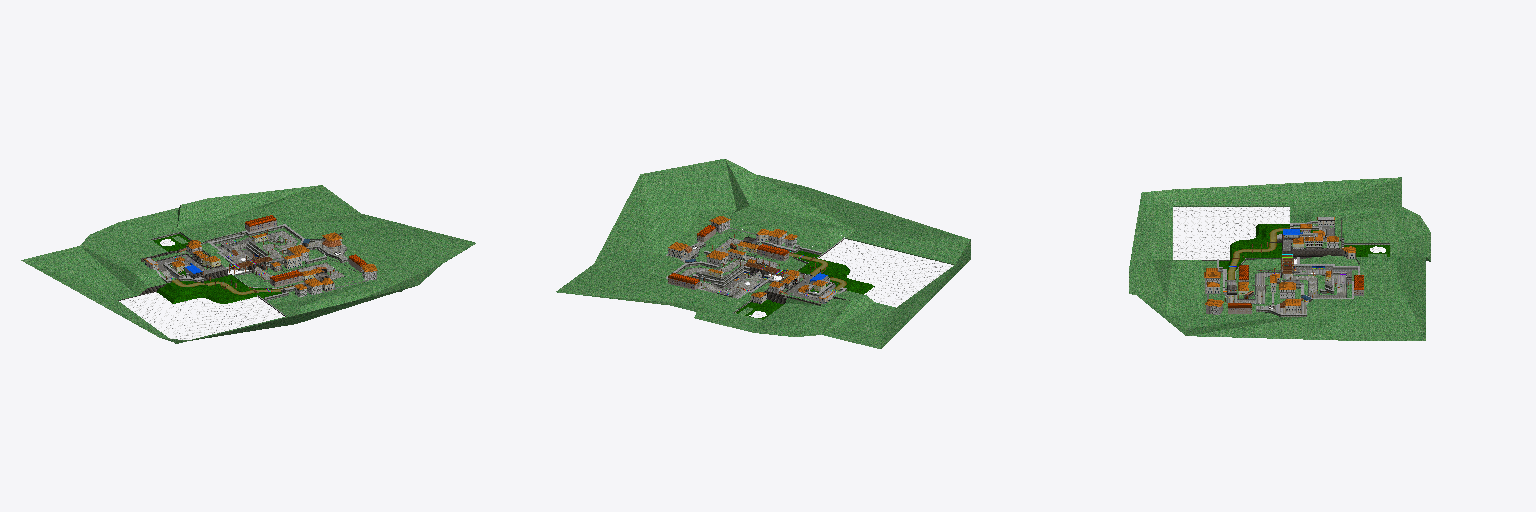
3 views of the same model, side by side, from view 1: azimuth 30°, elevation 25°; view 2: azimuth 150°, elevation 25°; view 3: azimuth 270°, elevation 25° (orthographic).
Visible parts, largest first — view 1: polygon1, polygon7, polygon18, polygon33, polygon29, polygon2, polygon28, polygon23, polygon0, polygon19; view 2: polygon1, polygon7, polygon29, polygon33, polygon2, polygon28, polygon18, polygon23, polygon9, polygon19, polygon0; view 3: polygon1, polygon7, polygon33, polygon2, polygon29, polygon18, polygon0, polygon23, polygon28.
Part boxes in pixels (x1,y1,x2,y2): polygon1: (21, 185, 475, 343); polygon7: (153, 234, 281, 303); polygon18: (151, 226, 348, 300); polygon33: (162, 231, 347, 284); polygon29: (144, 232, 377, 289); polygon2: (121, 239, 339, 339); polygon28: (245, 215, 366, 287); polygon23: (146, 224, 346, 315); polygon0: (118, 233, 342, 316); polygon19: (157, 234, 368, 292); polygon1: (556, 159, 970, 348); polygon7: (736, 251, 874, 319); polygon29: (668, 216, 832, 298); polygon33: (666, 239, 836, 297); polygon2: (694, 239, 953, 316); polygon28: (668, 225, 788, 289); polygon18: (676, 242, 846, 312); polygon23: (666, 238, 846, 298); polygon9: (707, 220, 809, 293); polygon19: (690, 228, 824, 300); polygon0: (689, 237, 849, 305); polygon1: (1129, 177, 1430, 340); polygon7: (1219, 224, 1389, 271); polygon33: (1228, 229, 1345, 313); polygon2: (1173, 207, 1382, 308); polygon29: (1204, 217, 1355, 306); polygon18: (1218, 222, 1389, 316); polygon0: (1202, 220, 1341, 308); polygon23: (1217, 217, 1359, 314); polygon28: (1228, 265, 1363, 313).
Size of the model in its own units: 168238 by 15556 by 126383.
34 materials, 34 textured.